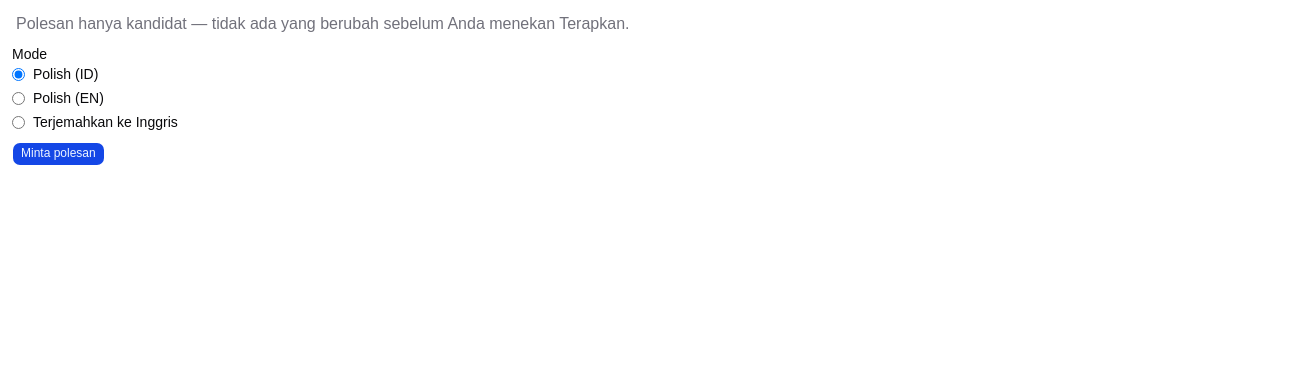
Test: PolishSuggestionsPanel (Task 20, FR-401/AC-401-a/b) › AC-401-a: static guidance shows a checklist, no Apply, document untouched
The width and height of the screenshot is (1292, 373).
Step 1. Click the button "Minta polesan" → (58, 154), box [12, 142, 105, 166]
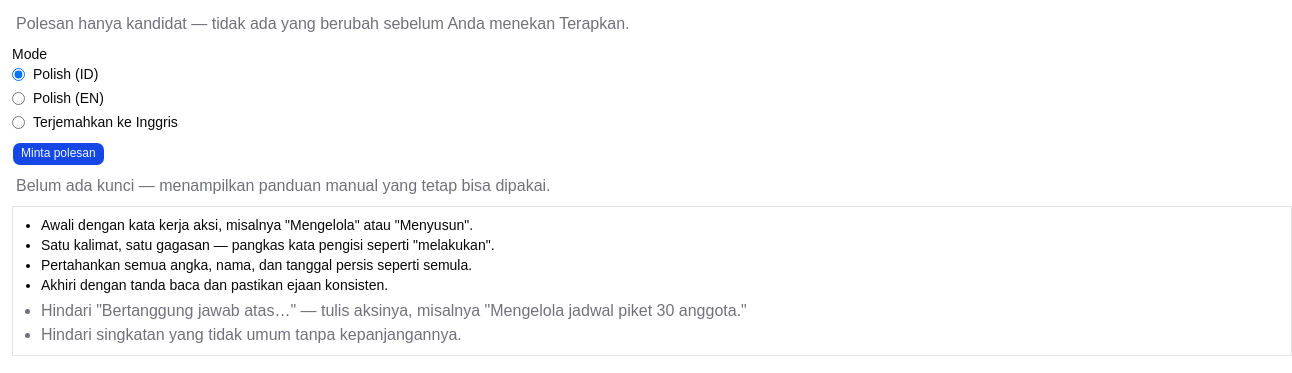
Expected: the text "Belum ada kunci — menampilkan panduan manual yang tetap bisa dipakai." is shown, [16, 177, 551, 194]
Expected: the list item "Pertahankan semua angka, nama, dan tanggal persis seperti semula." is shown, [41, 257, 472, 273]
